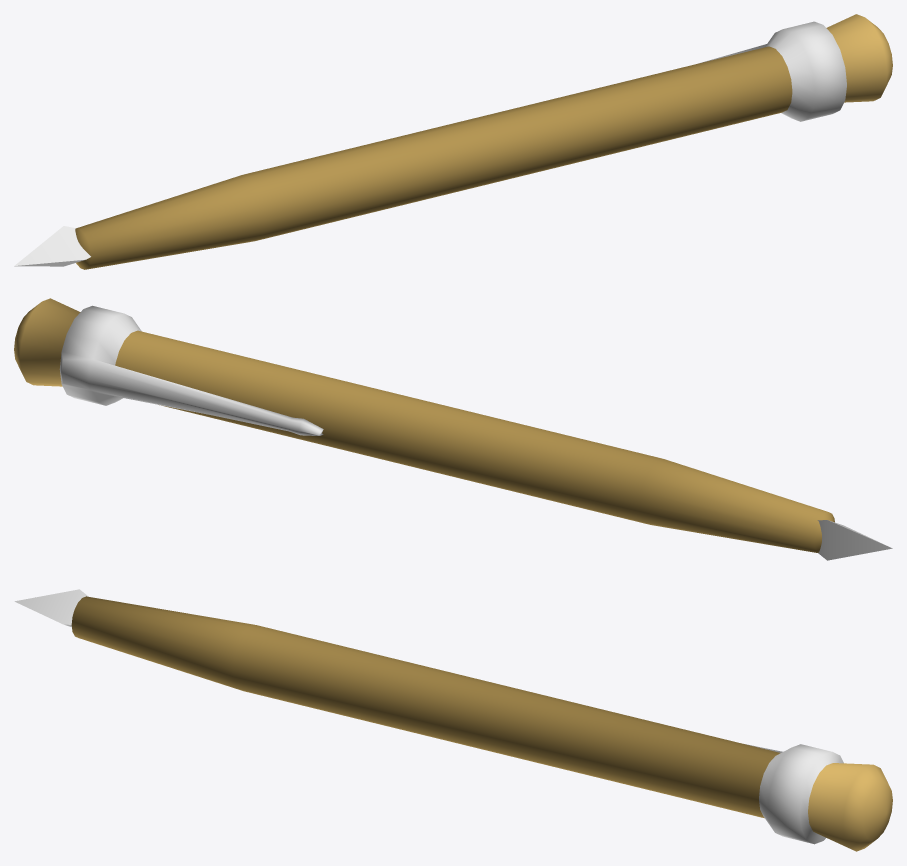
The model's file is Pen.fbx.
3 renders of one model, top to bottom at view 1: azimuth 30°, elevation 25°; view 2: azimuth 150°, elevation 25°; view 3: azimuth 330°, elevation 25°, orthographic.
Visible parts, largest first — view 1: polySurface1; view 2: polySurface1; view 3: polySurface1.
Boxes of the visible parts, <box> form: polySurface1: <box>14,14,892,269</box>; polySurface1: <box>14,298,892,560</box>; polySurface1: <box>14,589,892,851</box>.
Bounding box in the file's own units: 121 × 11.37 × 12.14.
